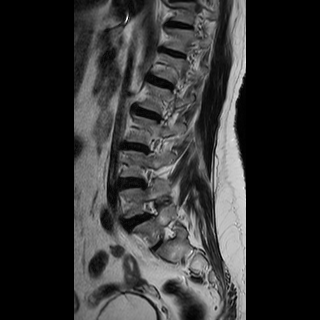RFS0: (137, 193, 165, 225)
